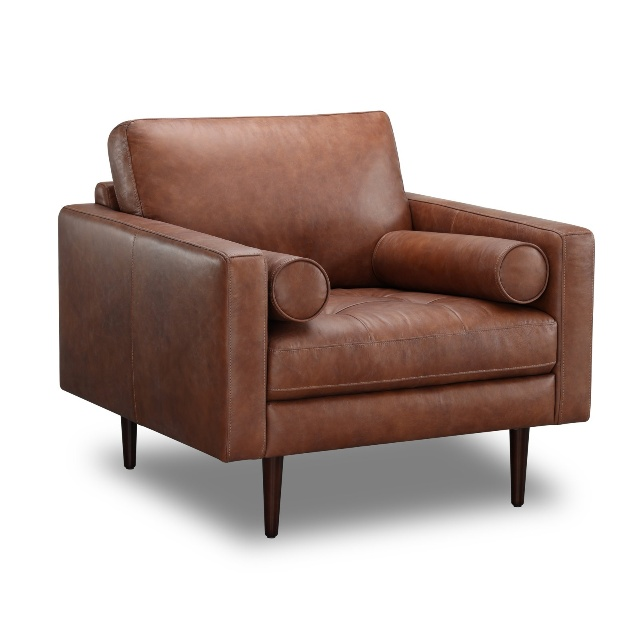obstacle: (59, 112, 594, 536)
